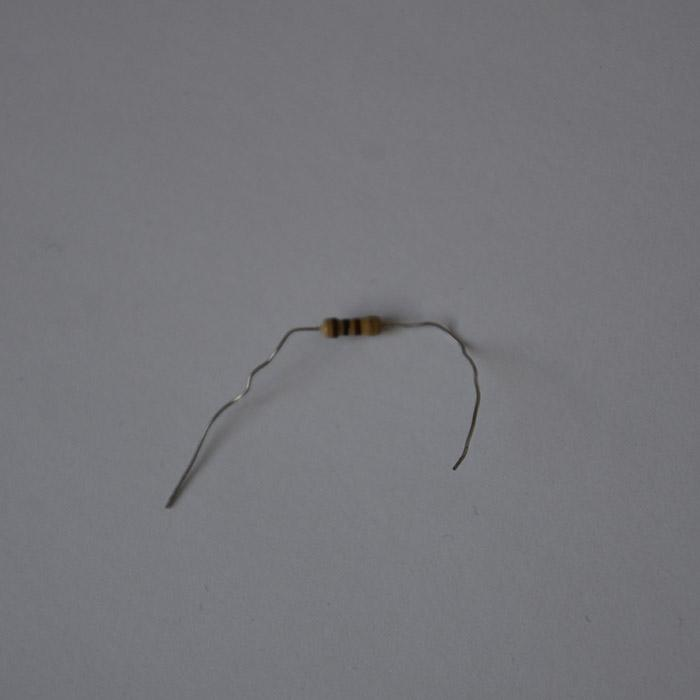resistor: (320, 315, 382, 337)
